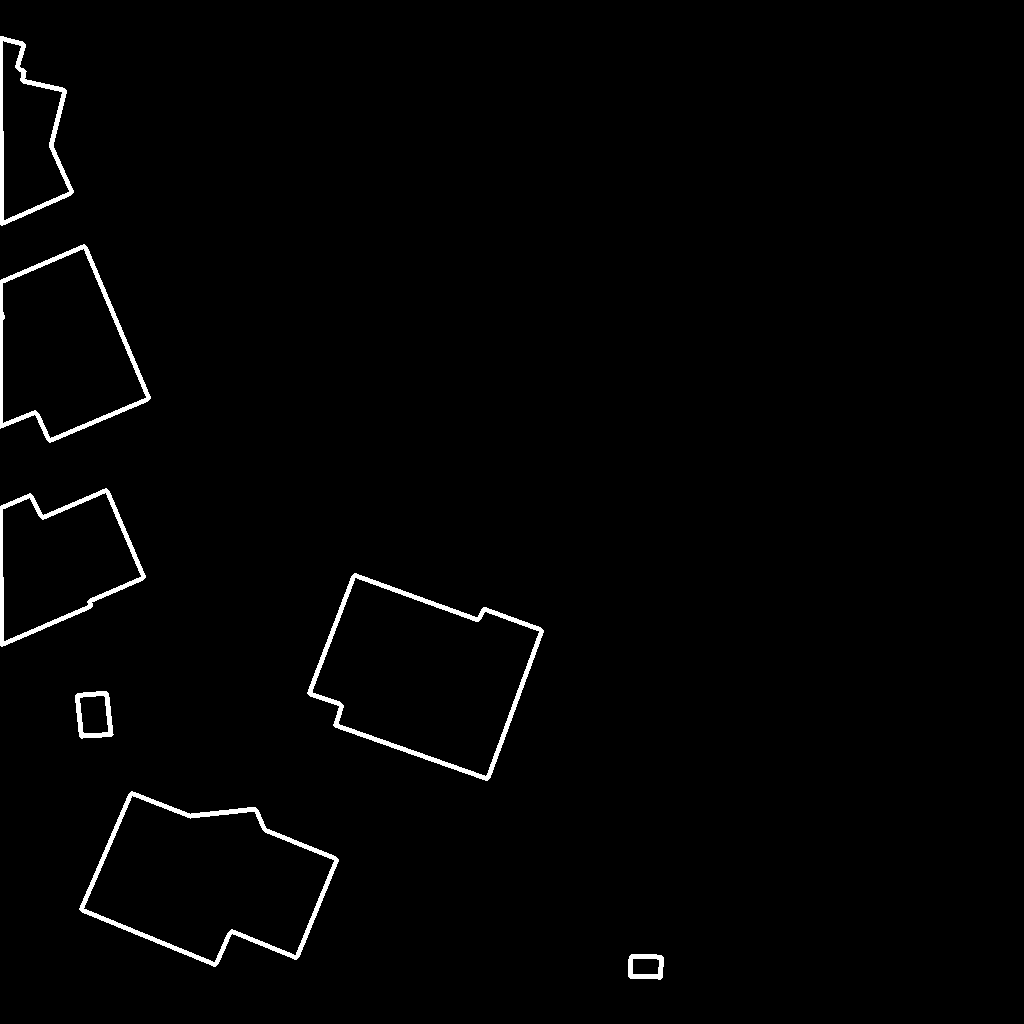building: (309, 575, 543, 780), (81, 793, 338, 966), (0, 246, 150, 442), (0, 490, 145, 646), (0, 38, 73, 225), (77, 693, 112, 737), (630, 956, 663, 978)
